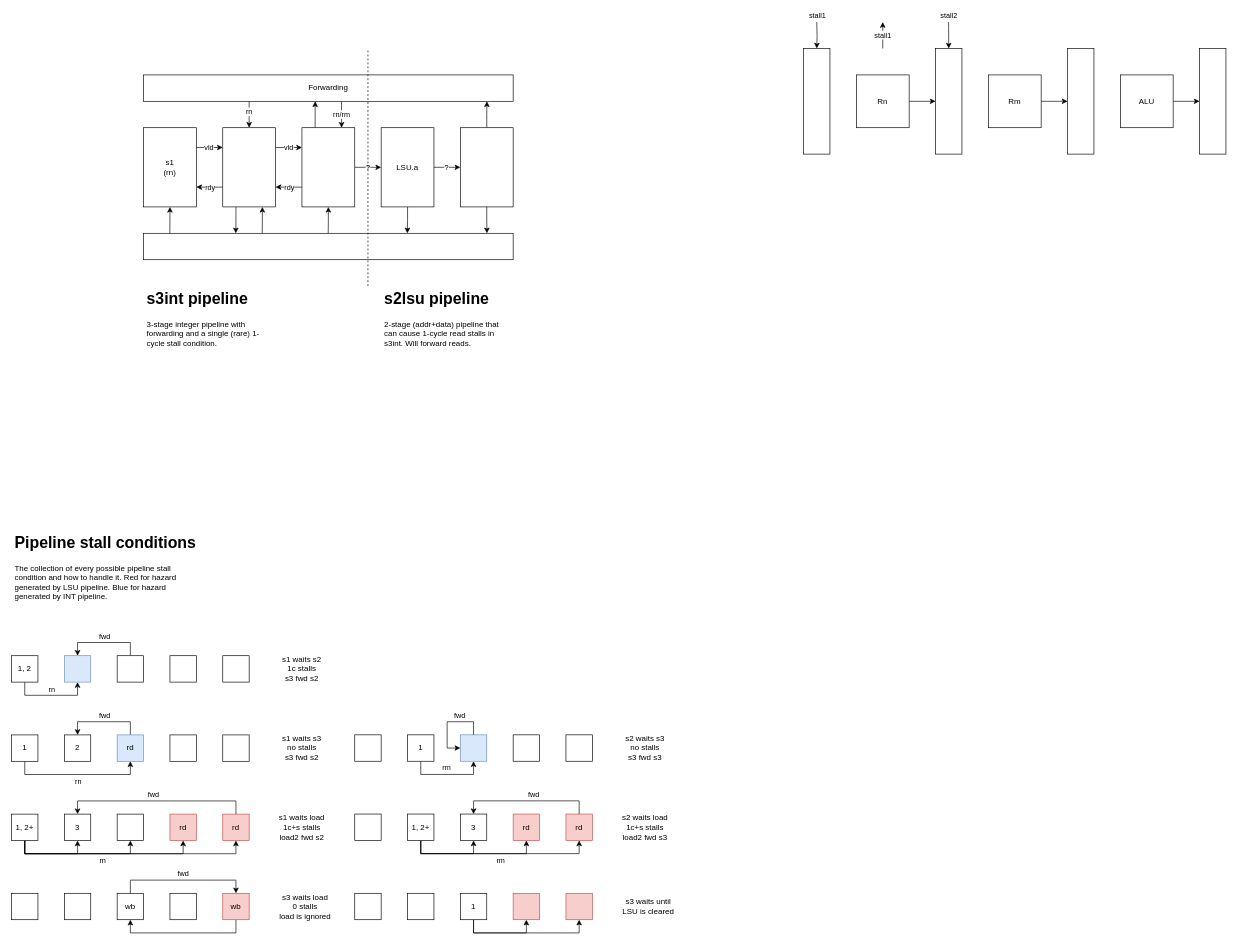
Image size: 1238x950. Some labels were removed from this diagram. Here are the shapes that lost their labels. From the top down, the centre of each, then its label:
At point (249, 167): "s2 (rm)".
At point (328, 167): "s3 (wb)".
At point (486, 167): "LSU.d".
At point (328, 246): "Stalls".
At point (77, 668): "3 rd".
At point (473, 747): "2 rd".
